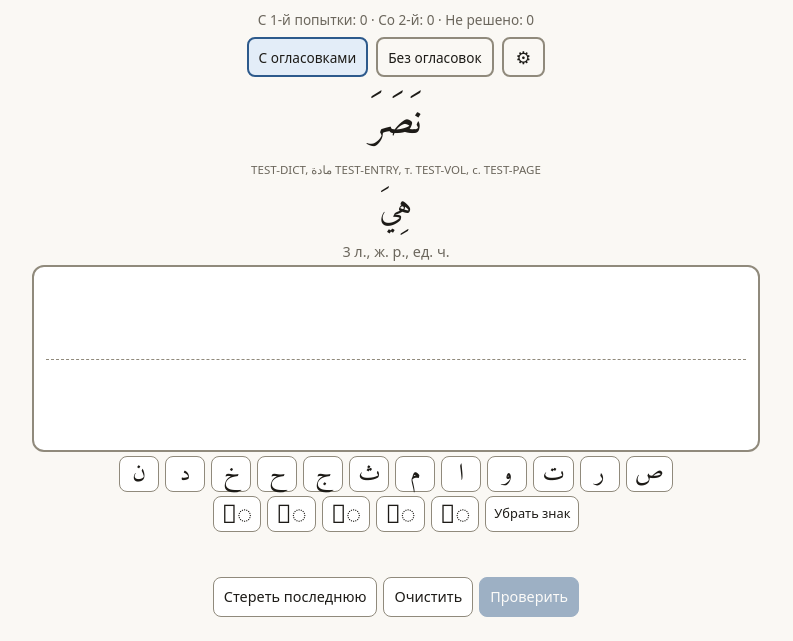
Scenario: App: ход тренировки › не решено: счётчик сразу, автоперехода нет даже через 5 с, переход только по «Дальше»
This screenshot has width=793, height=641.
Click the button with test id "letter-ن" at (139, 474), box [119, 456, 159, 492]
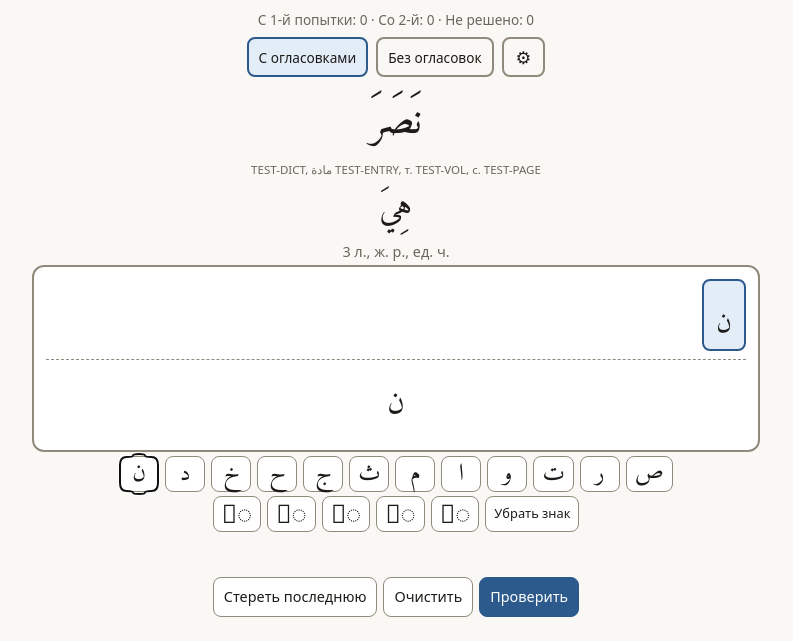
Click the button "Проверить" at (529, 597), box [479, 577, 579, 617]
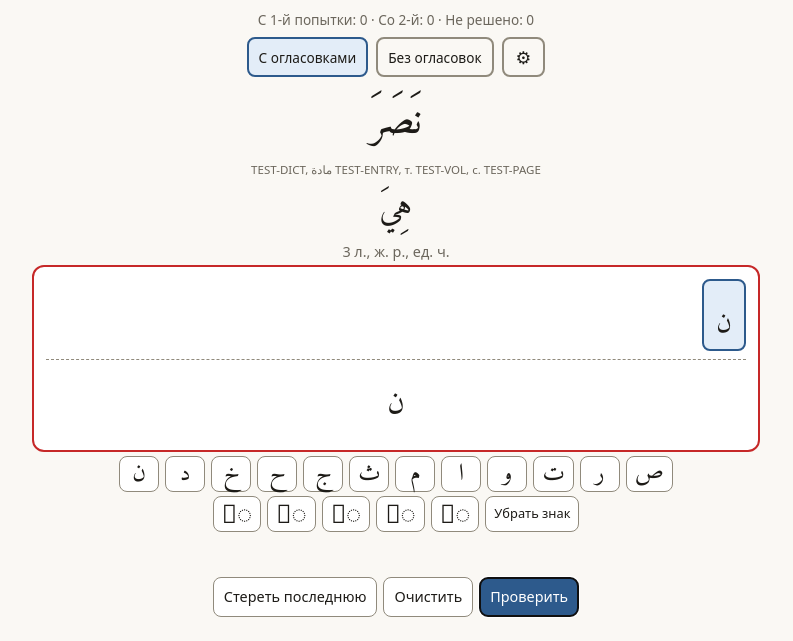
Click the button "Проверить" at (529, 597), box [479, 577, 579, 617]
Wait 5000 ms
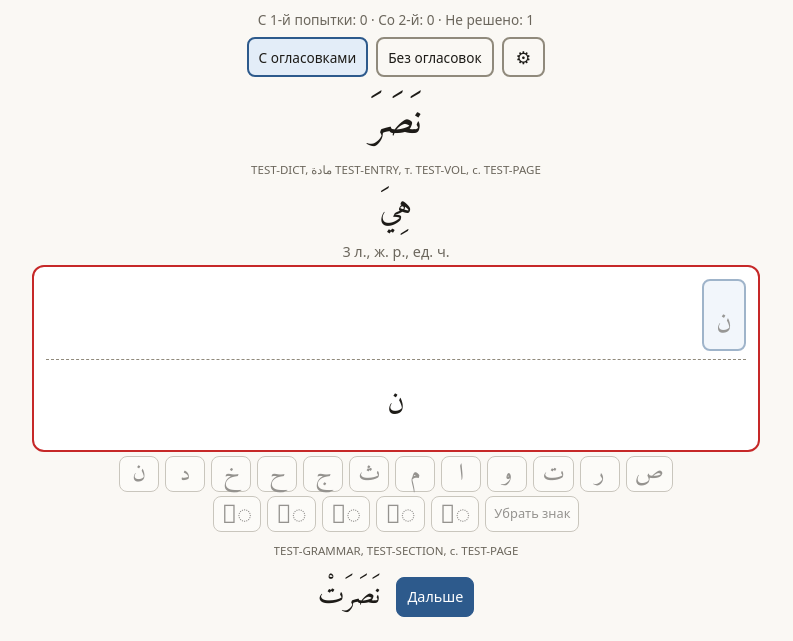
Now the text with test id "counter" reads "С 1-й попытки: 0 · Со 2-й: 0 · Не решено: 1", box [258, 10, 534, 29]
Click the button "Дальше" at (435, 597), box [396, 577, 474, 617]
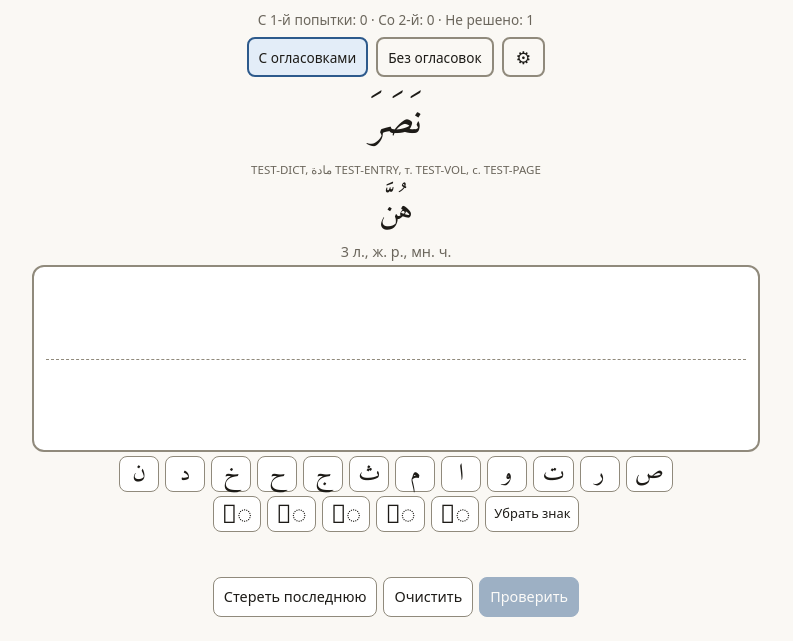
Now the text with test id "counter" reads "С 1-й попытки: 0 · Со 2-й: 0 · Не решено: 1", box [258, 10, 534, 29]
Now no buttons with test id "tile" are shown
